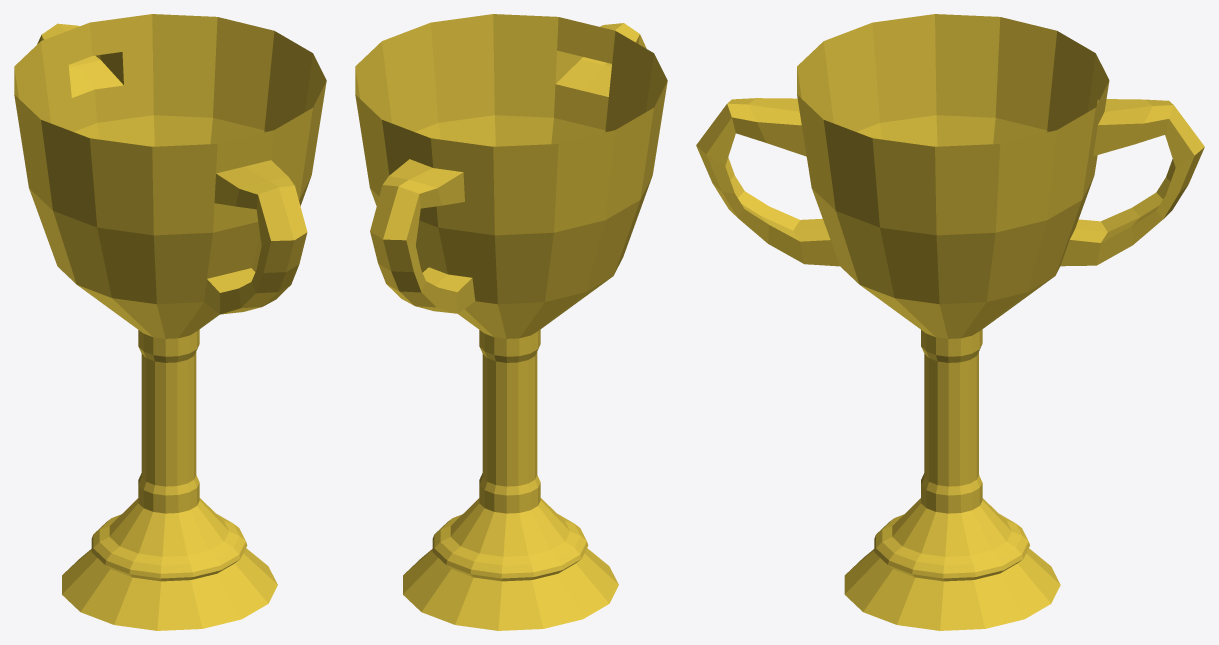
File: trophy.glb
The picture shows the model from 3 angles, left to right: view 1: azimuth 30°, elevation 25°; view 2: azimuth 150°, elevation 25°; view 3: azimuth 270°, elevation 25°; orthographic projection.
Visible parts, largest first — view 1: Cylinder; view 2: Cylinder; view 3: Cylinder.
Boxes of the visible parts, <box> form: Cylinder: <box>14,14,326,630</box>; Cylinder: <box>355,14,667,630</box>; Cylinder: <box>696,14,1204,630</box>.
Bounding box in the file's own units: 0.5755 × 1.02 × 0.9319.
